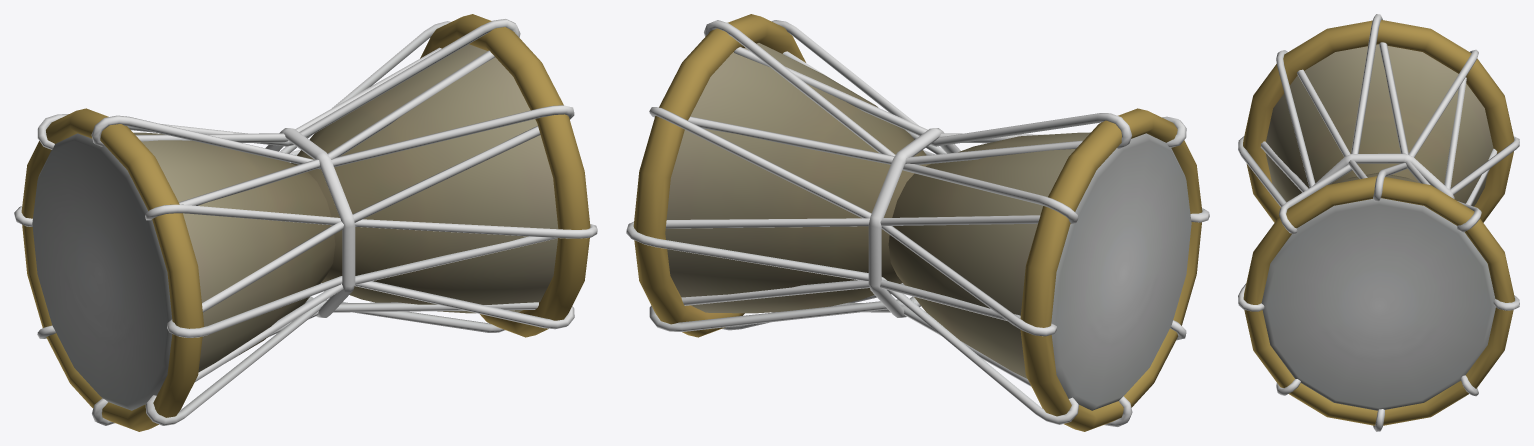
Rendered from CharSkyKid_Prop_Drum.glb.
3 renders of one model, left to right at view 1: azimuth 30°, elevation 25°; view 2: azimuth 150°, elevation 25°; view 3: azimuth 270°, elevation 25°, orthographic. The views are drawn at different scales.
Visible parts, largest first — view 1: CharSkyKid_Prop_Drum; view 2: CharSkyKid_Prop_Drum; view 3: CharSkyKid_Prop_Drum.
Boxes of the visible parts, x1=… form: CharSkyKid_Prop_Drum: x1=14, y1=14, x2=597, y2=431; CharSkyKid_Prop_Drum: x1=626, y1=14, x2=1209, y2=431; CharSkyKid_Prop_Drum: x1=1238, y1=14, x2=1519, y2=431.
Bounding box in the file's own units: 3.62 × 2.5 × 2.5.
1 material, 1 textured.
